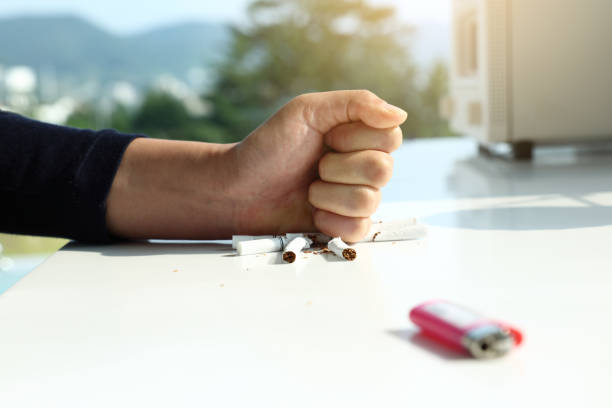cigarette: (237, 236, 297, 256), (371, 226, 428, 243), (326, 236, 358, 263), (280, 237, 308, 265)
